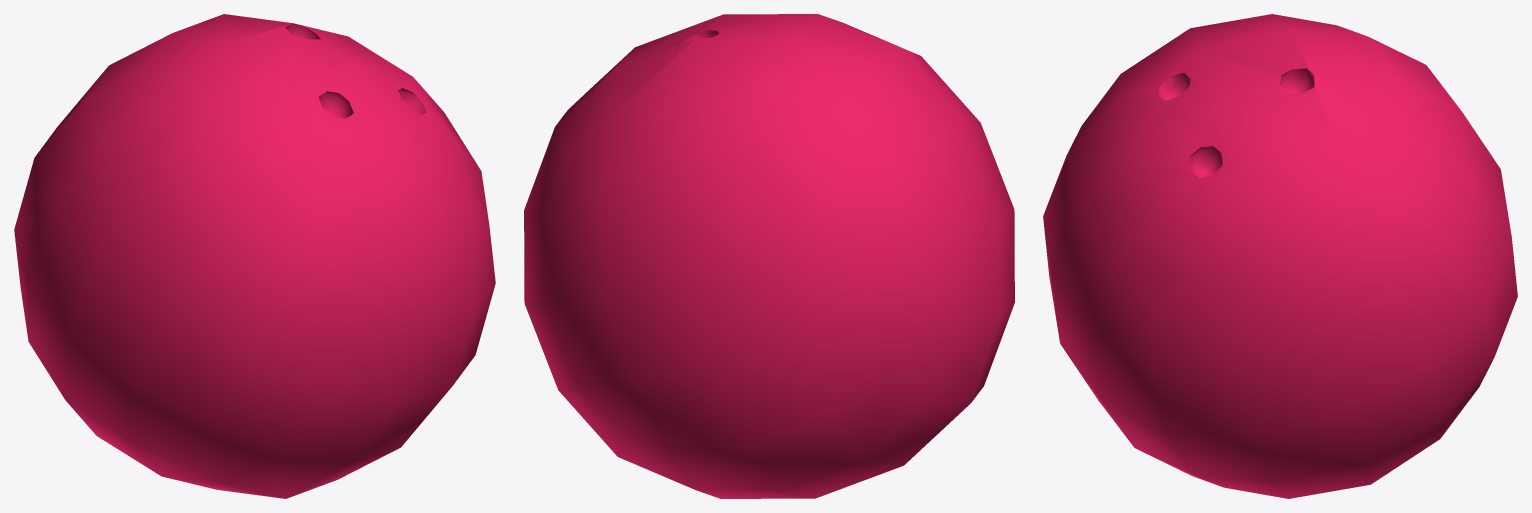
File: BowlingBall.FBX
The picture shows the model from 3 angles, left to right: view 1: azimuth 30°, elevation 25°; view 2: azimuth 150°, elevation 25°; view 3: azimuth 270°, elevation 25°; orthographic projection. The views are drawn at different scales.
Visible parts, largest first — view 1: BowlingBall; view 2: BowlingBall; view 3: BowlingBall.
Boxes of the visible parts, x1,y1,x2,y2 form: BowlingBall: [14, 14, 495, 498]; BowlingBall: [524, 14, 1014, 498]; BowlingBall: [1043, 14, 1517, 498].
Size of the model in its own units: 166 by 168 by 166.
